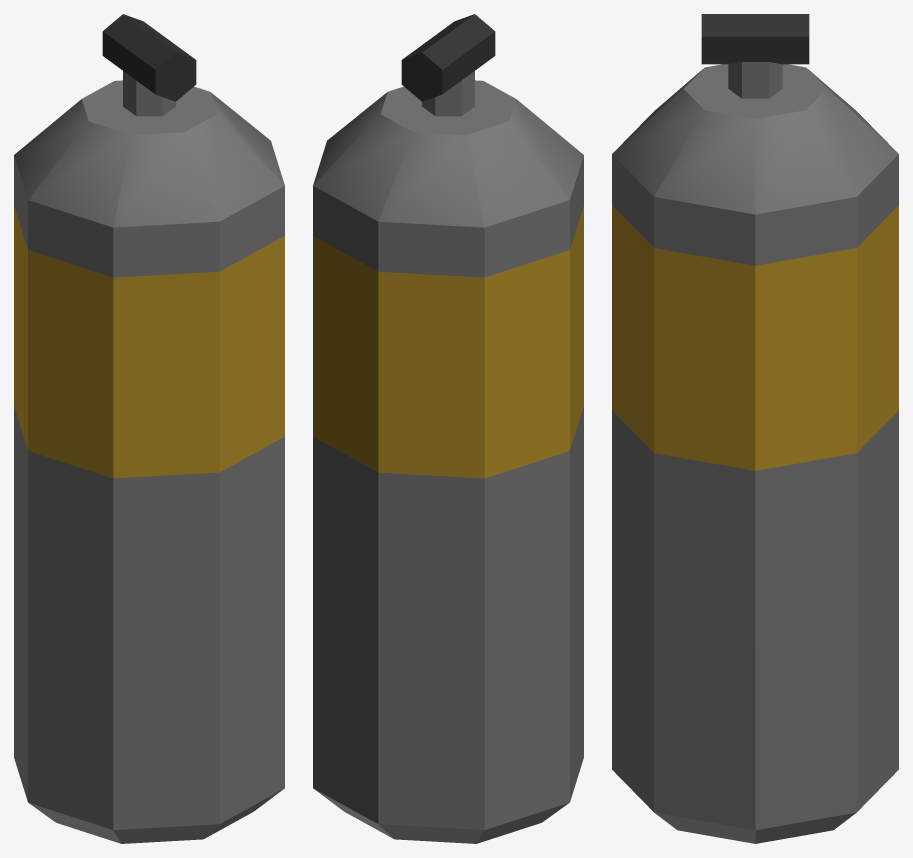
File: Propane_Tank_0.fbx
The picture shows the model from 3 angles, left to right: view 1: azimuth 30°, elevation 25°; view 2: azimuth 150°, elevation 25°; view 3: azimuth 270°, elevation 25°; orthographic projection. The views are drawn at different scales.
Parts seen in each view (by area): view 1: Propane_Tank_0; view 2: Propane_Tank_0; view 3: Propane_Tank_0.
Boxes of the visible parts, x1,y1,x2,y2 form: Propane_Tank_0: (14,14,284,843); Propane_Tank_0: (313,14,583,843); Propane_Tank_0: (612,14,898,843).
Bounding box in the file's own units: 40 × 121 × 40.
